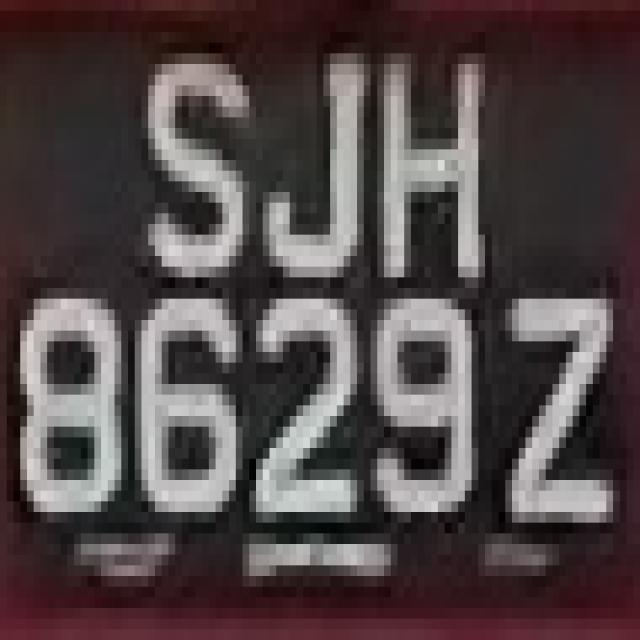2: (242, 245, 364, 576)
6: (128, 277, 249, 544)
8: (13, 256, 122, 544)
9: (364, 309, 478, 512)
H: (371, 22, 498, 310)
J: (243, 11, 357, 288)
S: (135, 43, 236, 341)
Z: (478, 256, 613, 533)
